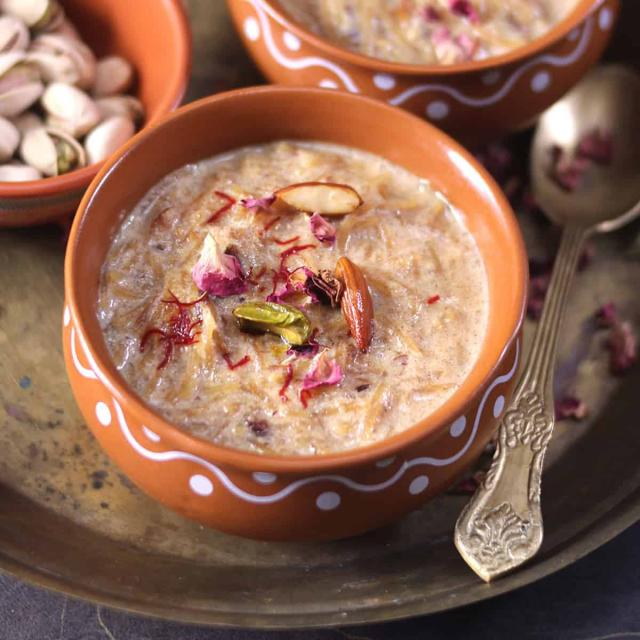shavige payasa: (91, 125, 500, 468)
